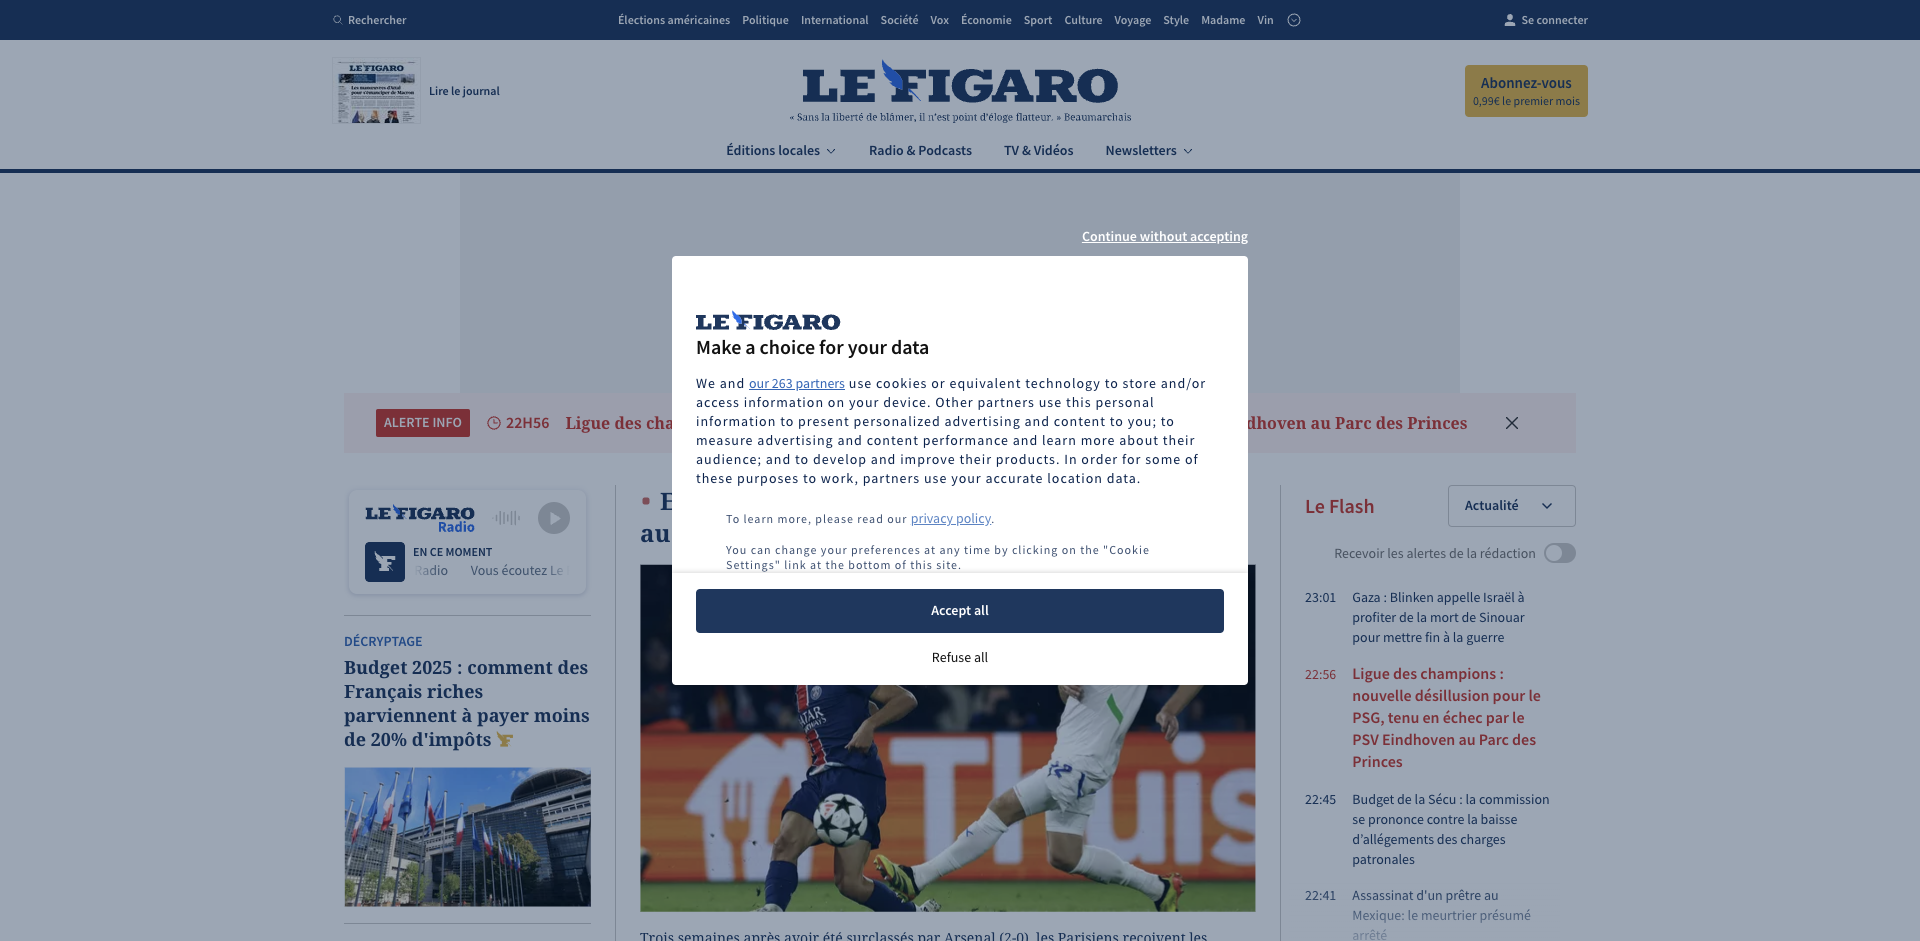button: (1371, 559, 1510, 595), (1488, 399, 1536, 447), (726, 141, 838, 161), (1106, 141, 1194, 161), (1872, 894, 1911, 935), (538, 502, 571, 534), (1286, 0, 1302, 40)
icon: (1536, 494, 1559, 518)
label: (1305, 543, 1576, 562)
link: (0, 890, 1872, 941), (344, 393, 1576, 453), (640, 485, 1256, 549), (344, 656, 591, 752), (1352, 663, 1551, 773), (790, 59, 1130, 123), (1352, 789, 1551, 869), (1352, 587, 1551, 647), (1352, 885, 1551, 941), (332, 58, 500, 124), (1464, 65, 1588, 116), (332, 0, 448, 40), (618, 0, 730, 40), (1501, 0, 1588, 40), (801, 0, 868, 40), (961, 0, 1011, 40), (869, 141, 972, 161), (742, 0, 789, 40), (1201, 0, 1245, 40), (880, 0, 918, 40), (1064, 0, 1102, 40), (1114, 0, 1151, 40), (1004, 141, 1074, 161), (1024, 0, 1052, 40), (1163, 0, 1189, 40), (931, 0, 949, 40), (1258, 0, 1273, 40), (1280, 484, 1280, 485)
